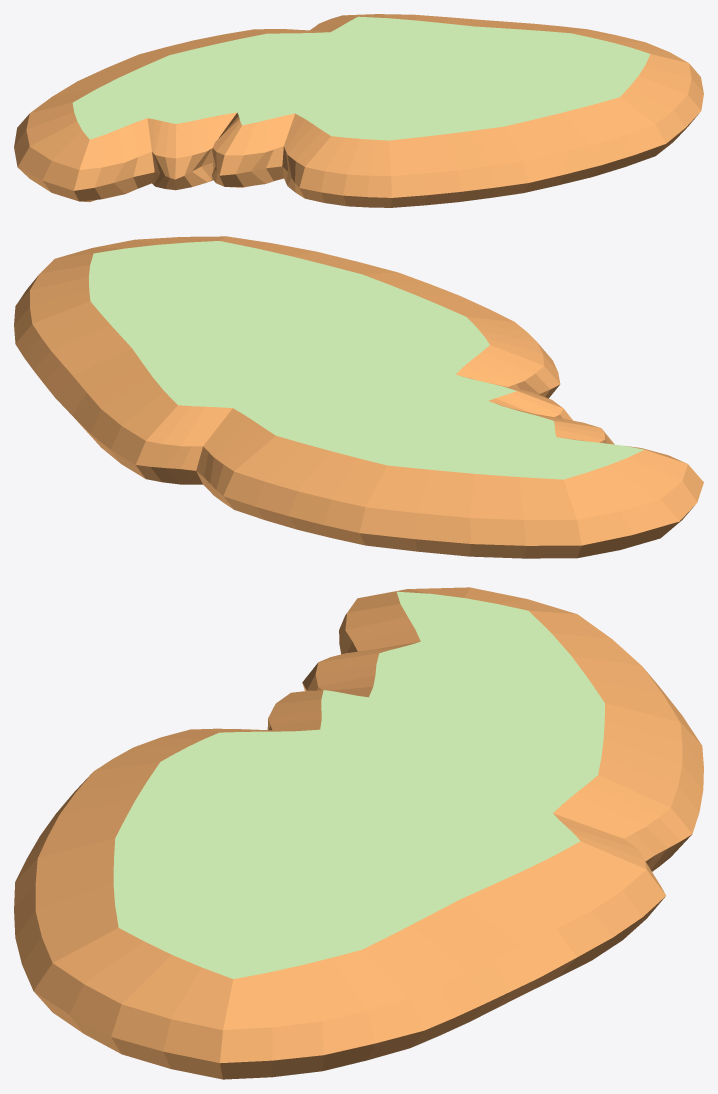
The model's file is island_small.glb.
3 views of the same model, one above another, from view 1: azimuth 30°, elevation 25°; view 2: azimuth 150°, elevation 25°; view 3: azimuth 270°, elevation 25° (orthographic). The views are drawn at different scales.
Visible parts, largest first — view 1: Island.003; view 2: Island.003; view 3: Island.003.
Boxes of the visible parts, x1,y1,x2,y2 form: Island.003: [14, 14, 703, 207]; Island.003: [14, 236, 703, 558]; Island.003: [14, 587, 703, 1079].
Size of the model in its own units: 5.58 by 0.5575 by 3.53.
